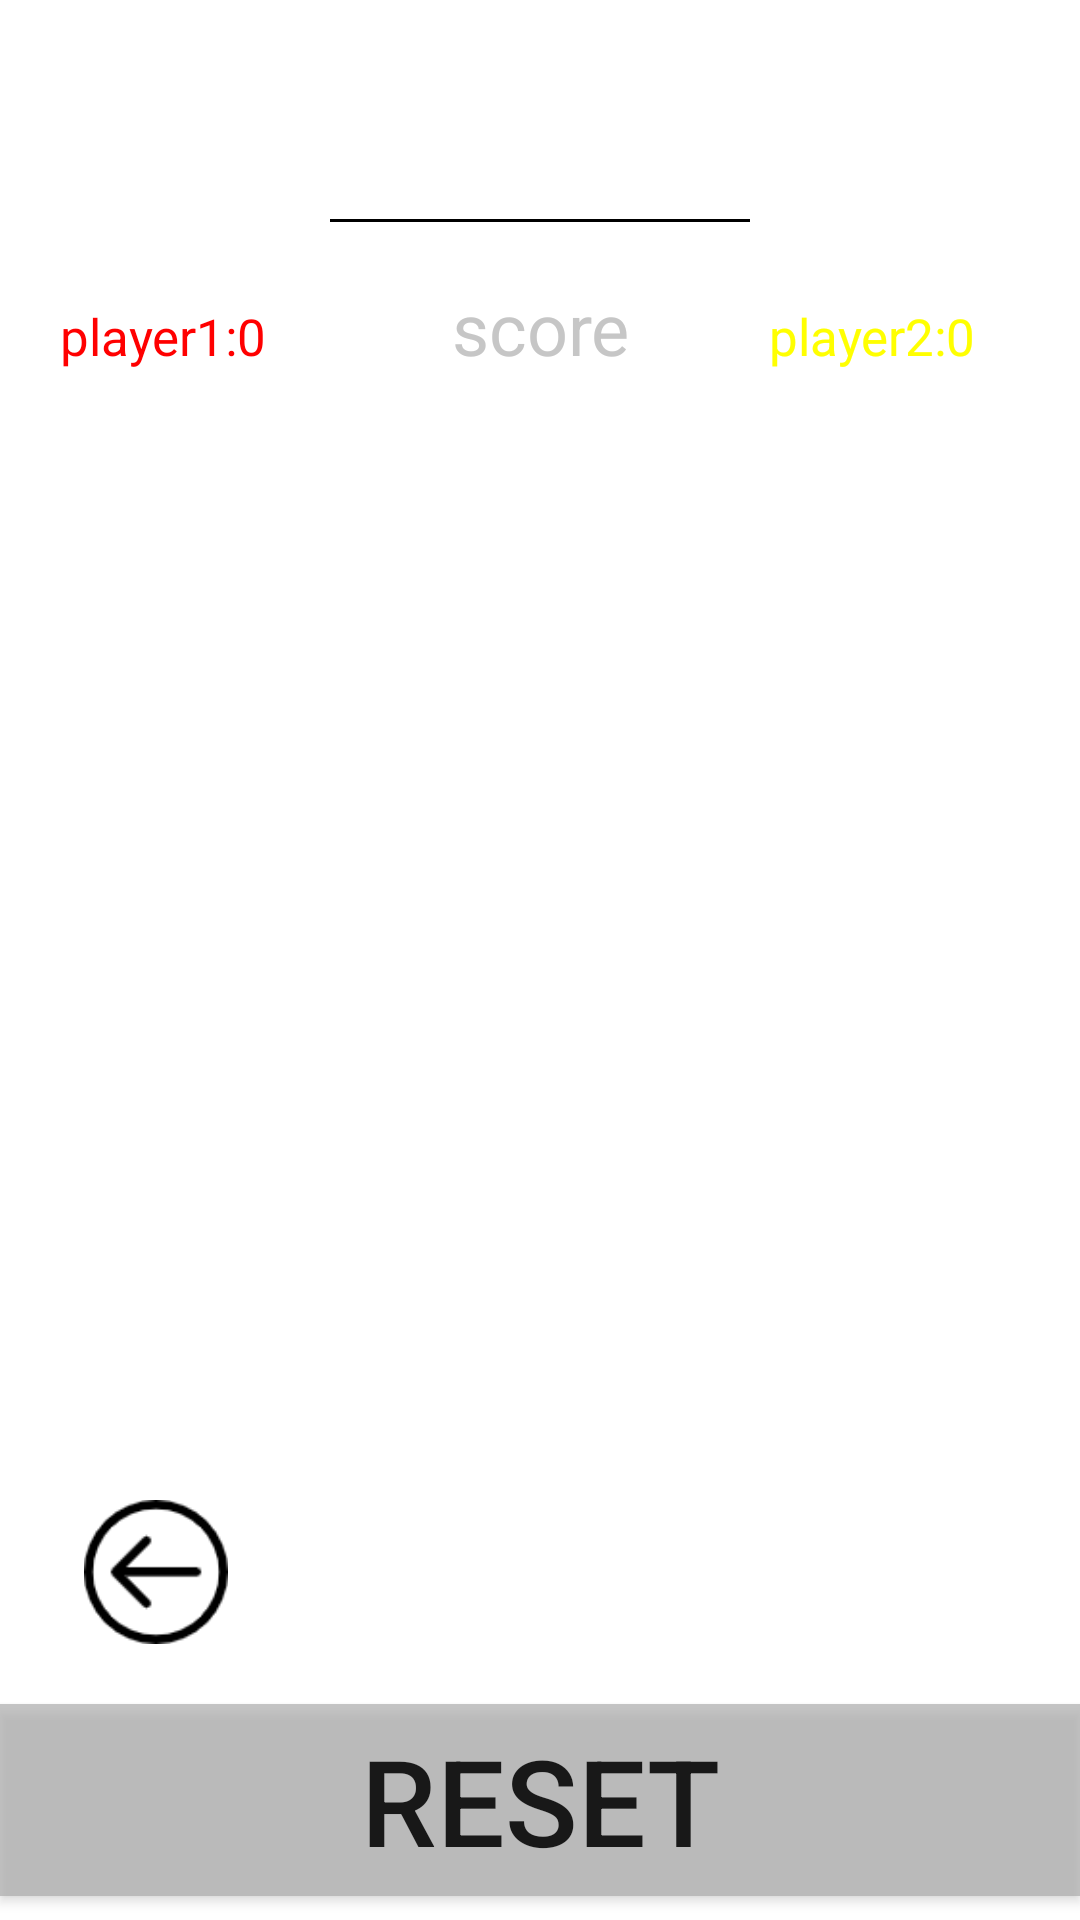

Screen size 1080w x 1920h. Icon name, then its center in pixels as (x=x, y=y):
back: (x=156, y=1572)
